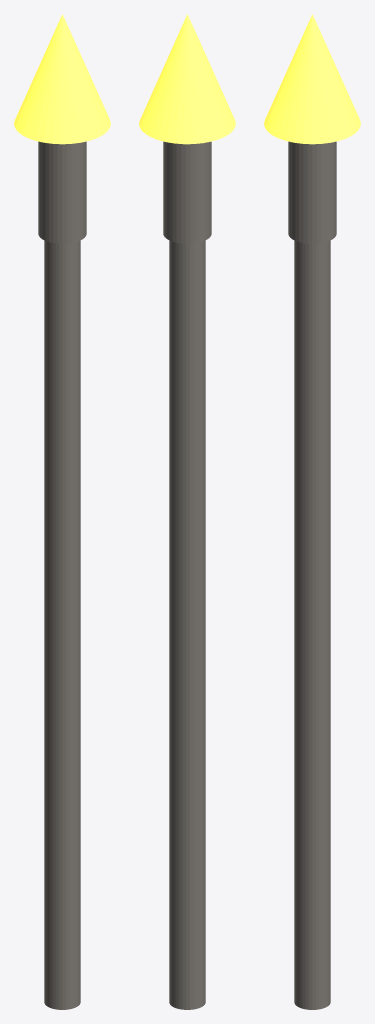
File: torch.glb
3 renders of one model, left to right at view 1: azimuth 90°, elevation 25°; view 2: azimuth 210°, elevation 25°; view 3: azimuth 270°, elevation 25°, orthographic.
Visible parts, largest first — view 1: Cylinder, Cone, Cylinder.001; view 2: Cylinder, Cone, Cylinder.001; view 3: Cylinder, Cone, Cylinder.001.
Part boxes in pixels (left/top/right/bottom): Cylinder: left=44, top=240, right=80, bottom=1009; Cone: left=14, top=14, right=110, bottom=144; Cylinder.001: left=38, top=141, right=86, bottom=243; Cylinder: left=169, top=240, right=205, bottom=1009; Cone: left=139, top=14, right=235, bottom=144; Cylinder.001: left=163, top=141, right=211, bottom=243; Cylinder: left=294, top=240, right=330, bottom=1009; Cone: left=264, top=14, right=360, bottom=144; Cylinder.001: left=288, top=141, right=336, bottom=243.
Bounding box in the file's own units: 0.16 × 1.8 × 0.16.
